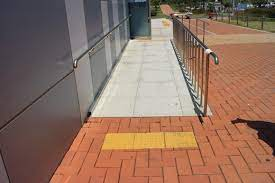guide_blocks: (102, 132, 197, 148)
